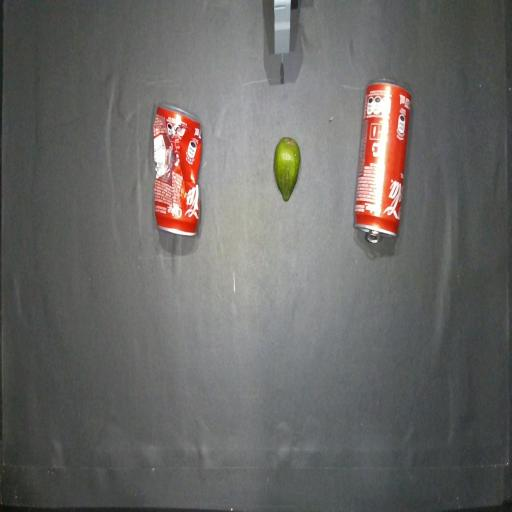higo: (274, 138, 300, 201)
lata: (354, 81, 411, 242)
lata_defectuoso: (154, 106, 202, 235)
